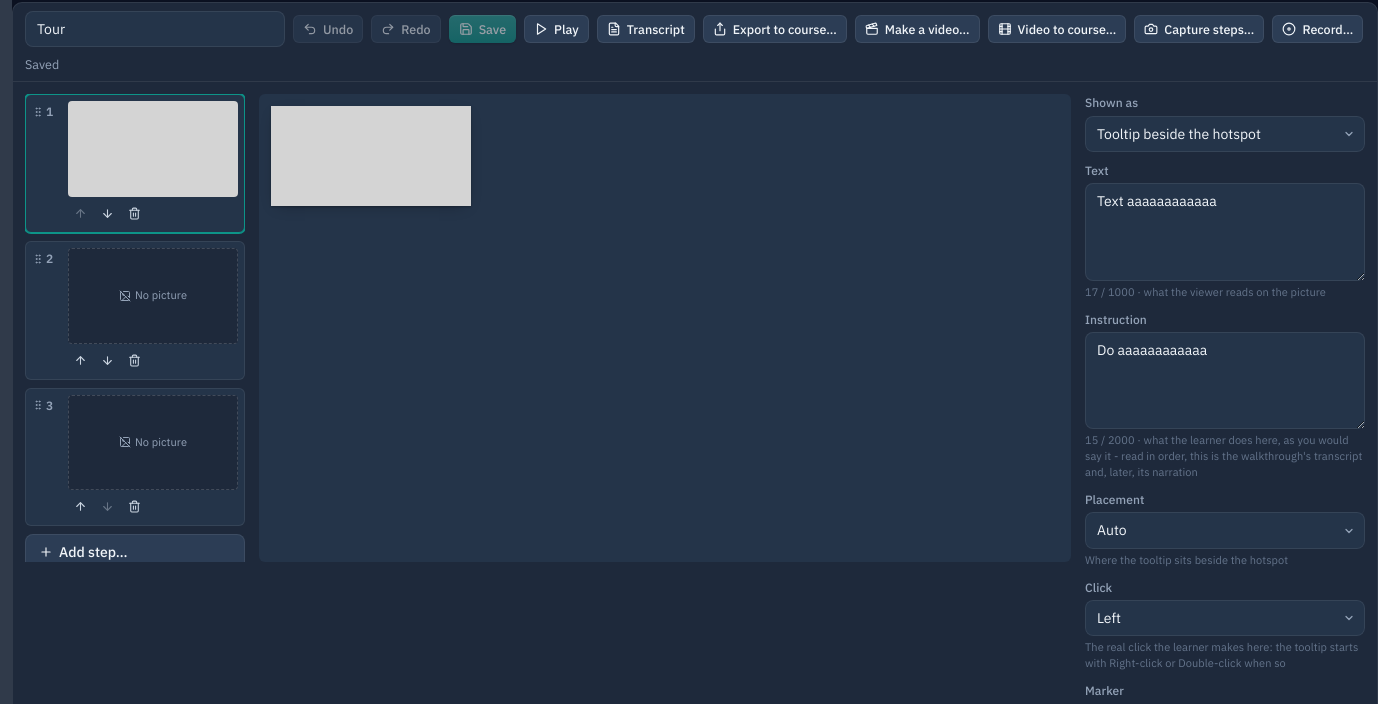
Test: the guided capture › in the desktop app the builder's line for a step without a picture names the click too (H4)
Click the element showing "2 No picture" at (135, 310), box 25,241 -> 245,380
(page scrolled)
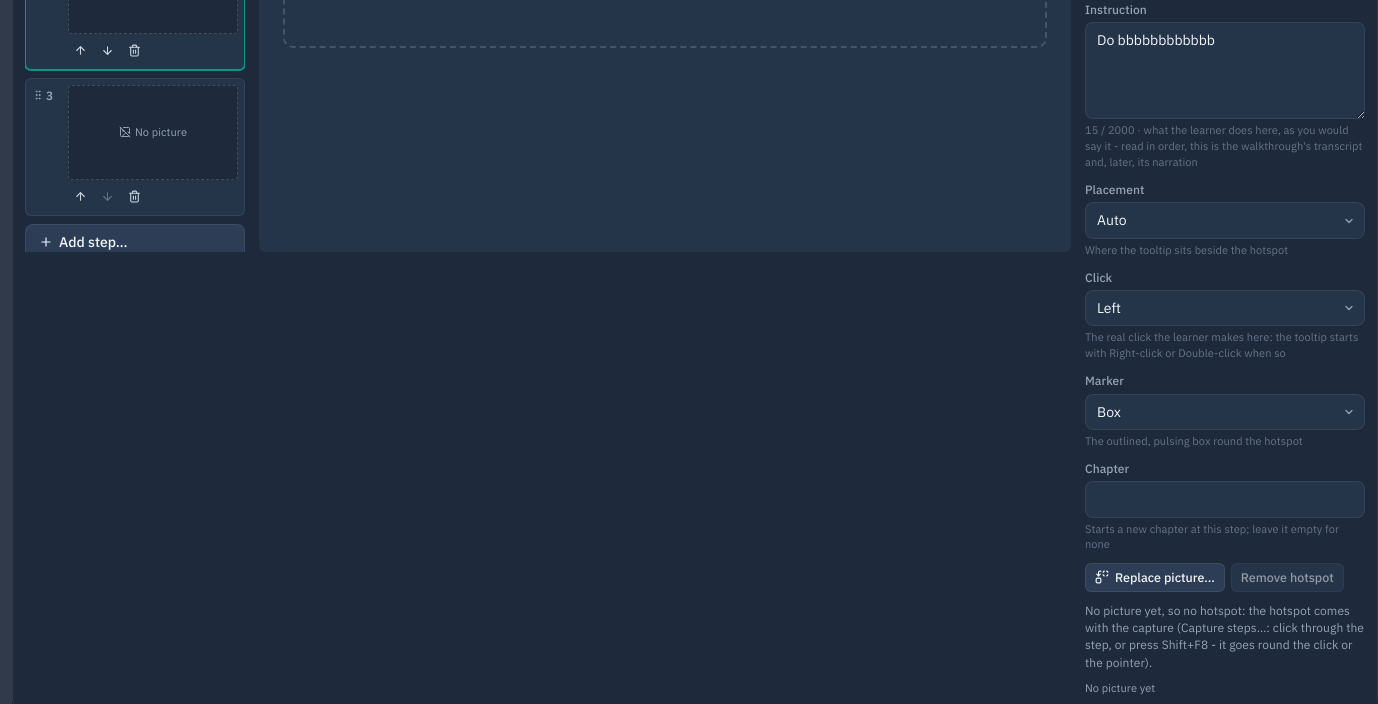
expect the text "No picture yet, so no hotspot: the hotspot comes with the capture (Capture steps…: click through the step, or press Shift+F8 - it goes round the click or the po" is shown: met, box 1085,602 -> 1364,670
